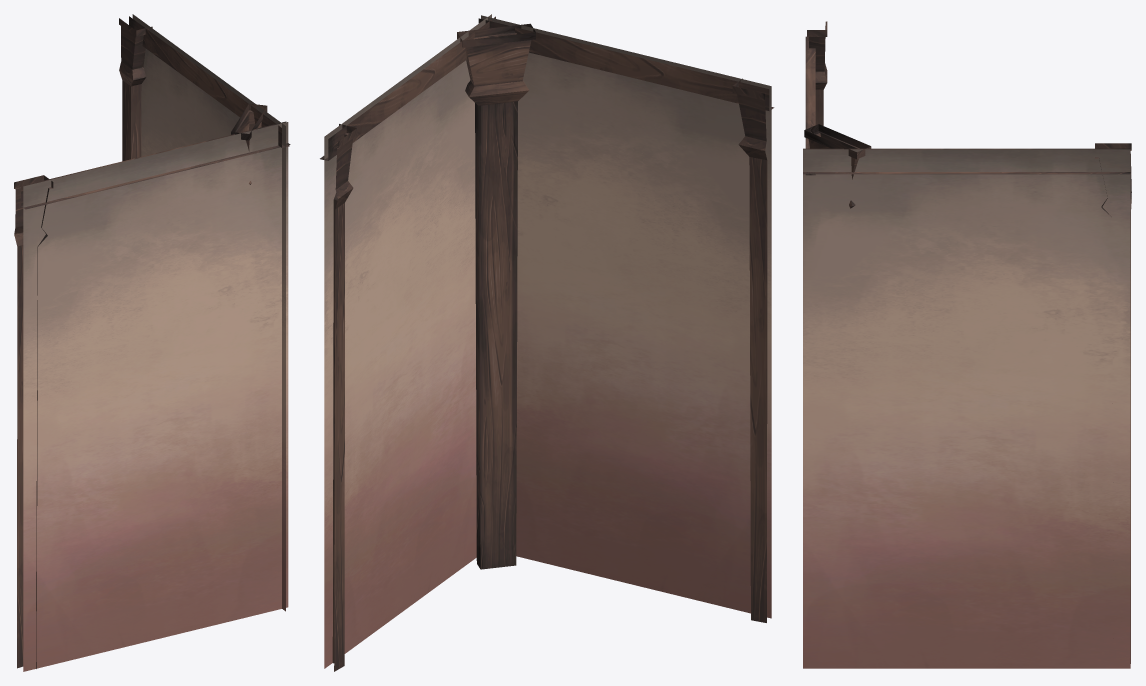
File: Wall_Top_Inner_Corner_LOD1.fbx
The picture shows the model from 3 angles, left to right: view 1: azimuth 30°, elevation 25°; view 2: azimuth 150°, elevation 25°; view 3: azimuth 270°, elevation 25°; orthographic projection. The views are drawn at different scales.
Visible parts, largest first — view 1: Inner_Corner_Wall_Top1; view 2: Inner_Corner_Wall_Top1; view 3: Inner_Corner_Wall_Top1.
Part boxes in pixels (left/top/right/bottom): Inner_Corner_Wall_Top1: left=14, top=14, right=290, bottom=671; Inner_Corner_Wall_Top1: left=320, top=14, right=774, bottom=671; Inner_Corner_Wall_Top1: left=803, top=21, right=1131, bottom=668.
Size of the model in its own units: 0.0242 by 0.042 by 0.0241.
